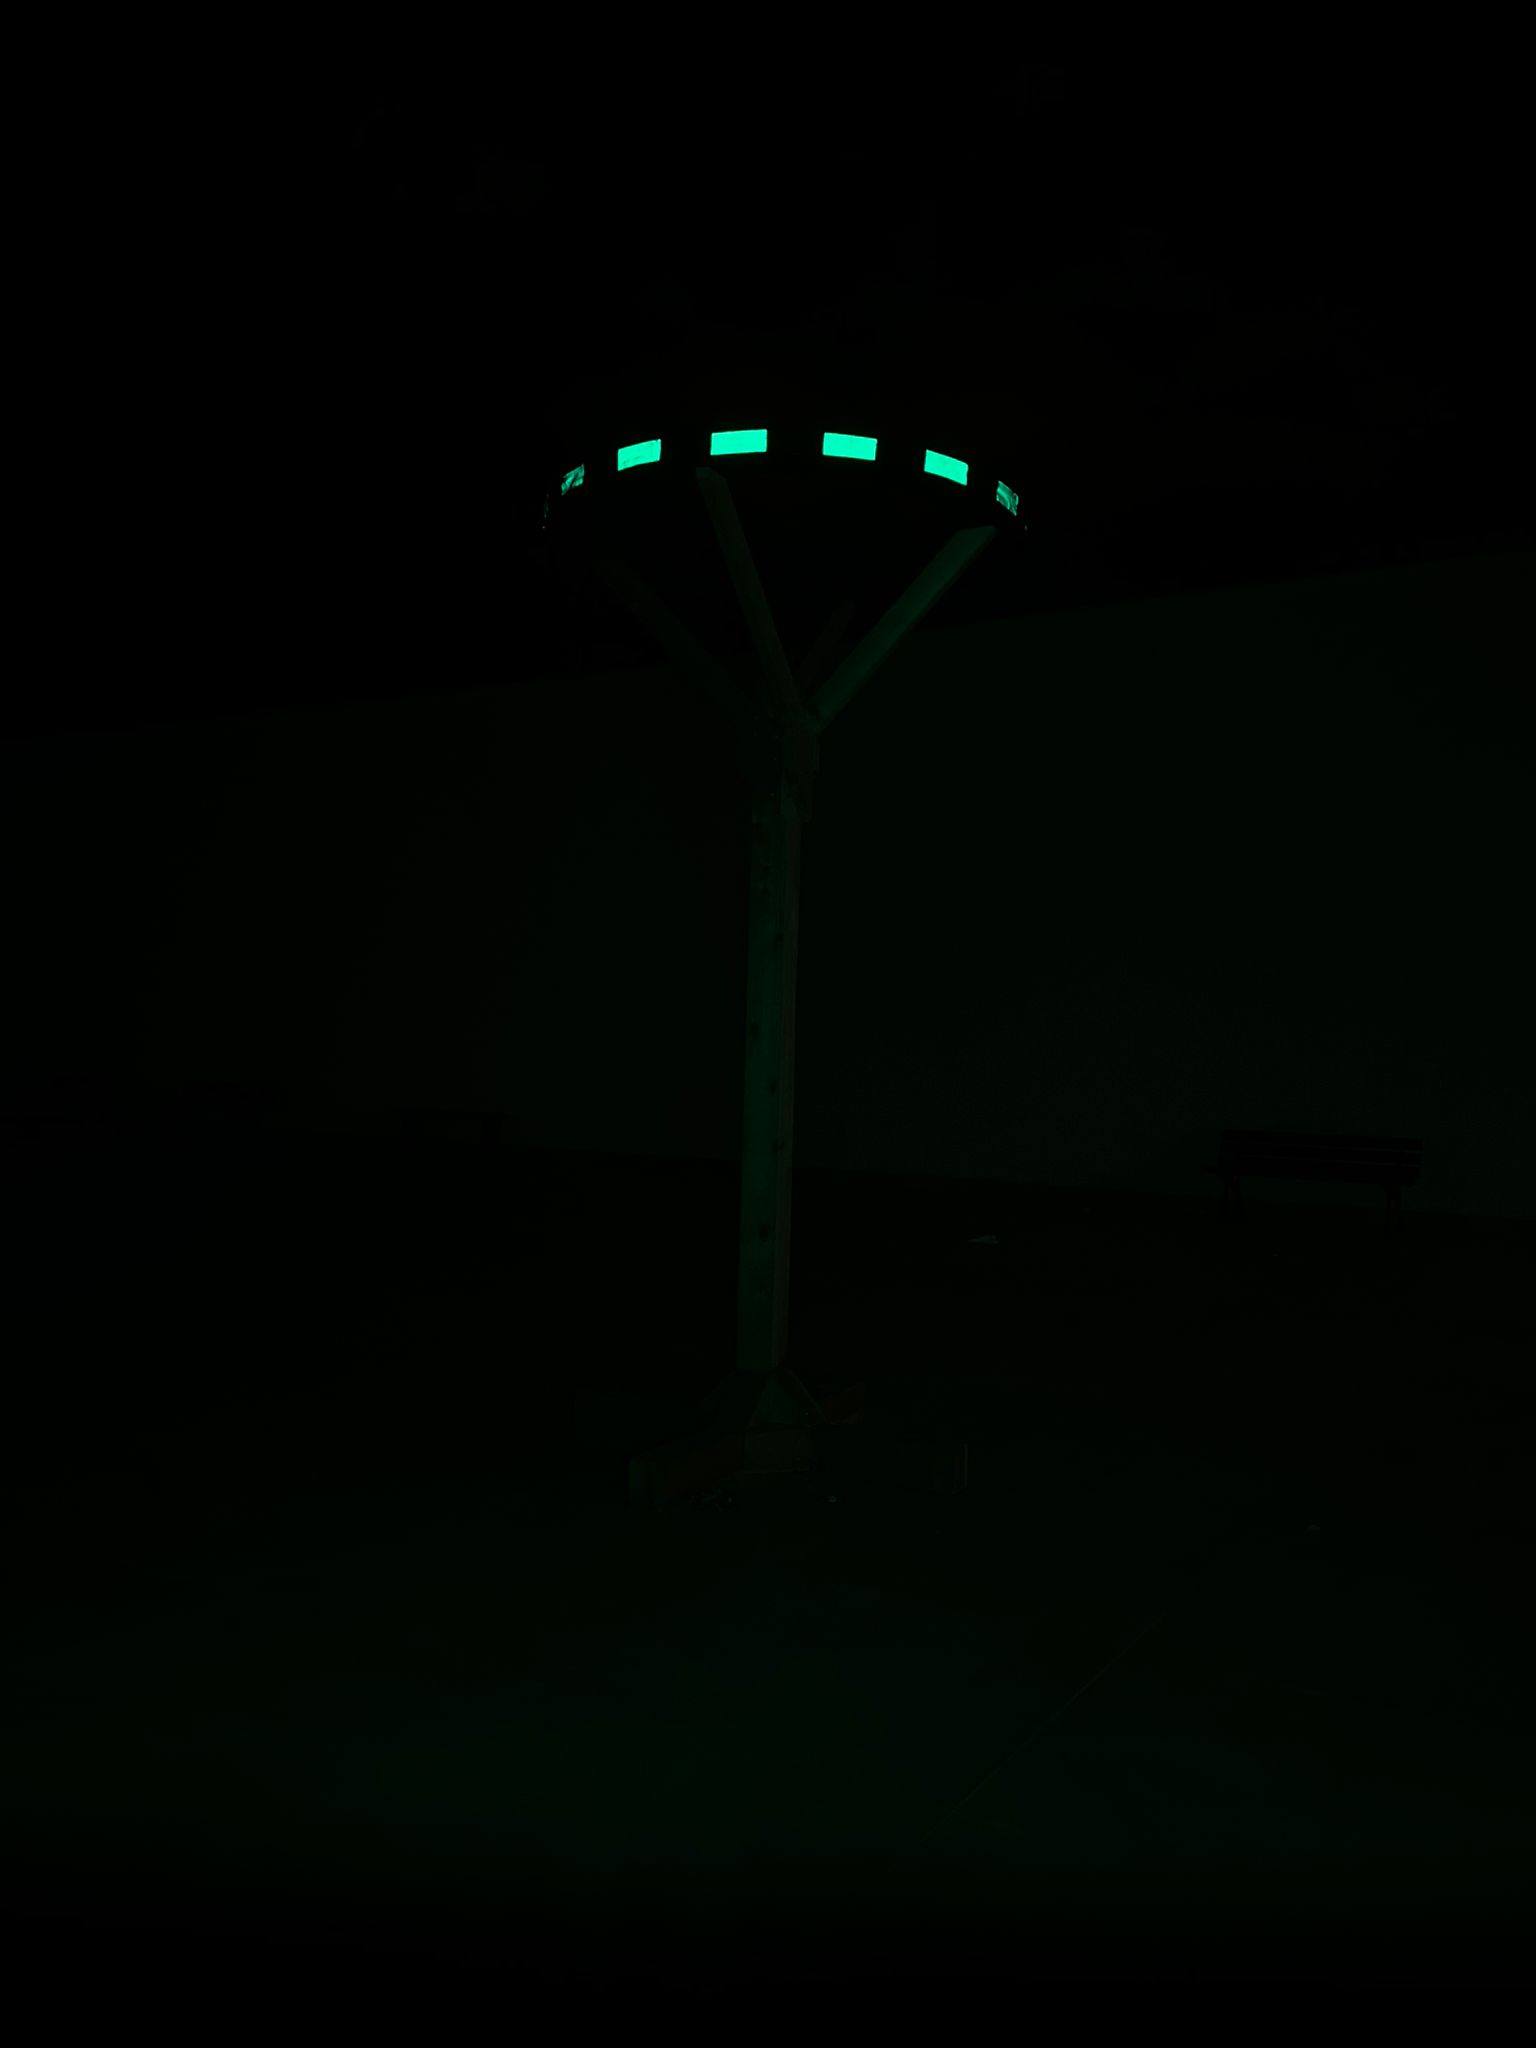hoop: (549, 423, 1023, 524)
